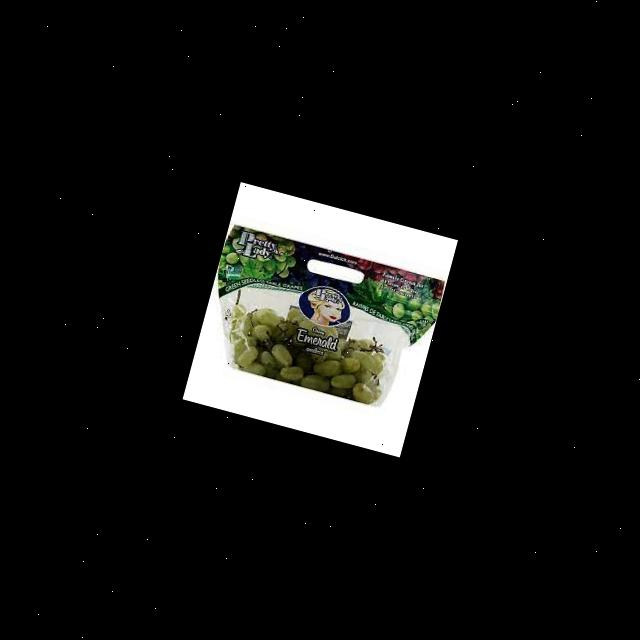grape: (217, 293, 396, 407)
